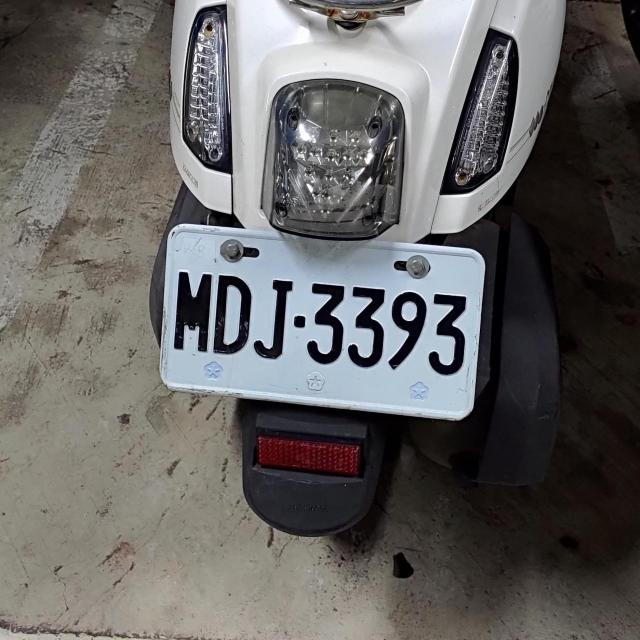W: (156, 225, 492, 416)
